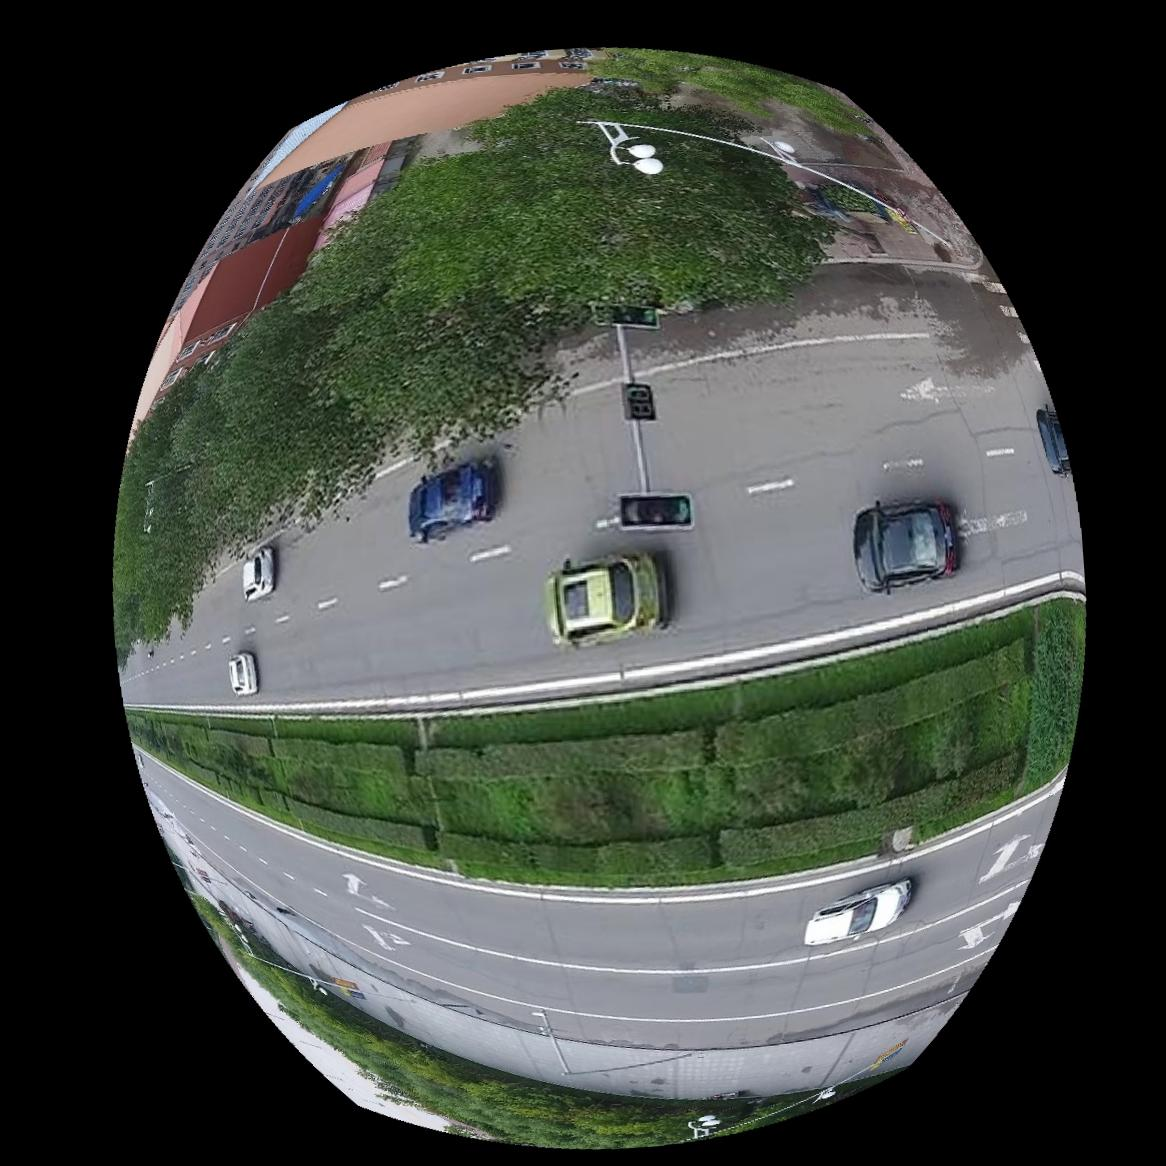cars: (545, 551, 666, 646), (856, 501, 959, 592), (409, 456, 494, 542), (806, 878, 913, 945), (241, 544, 275, 600), (228, 651, 256, 694)
trees: (114, 82, 833, 650), (128, 602, 1085, 886)
